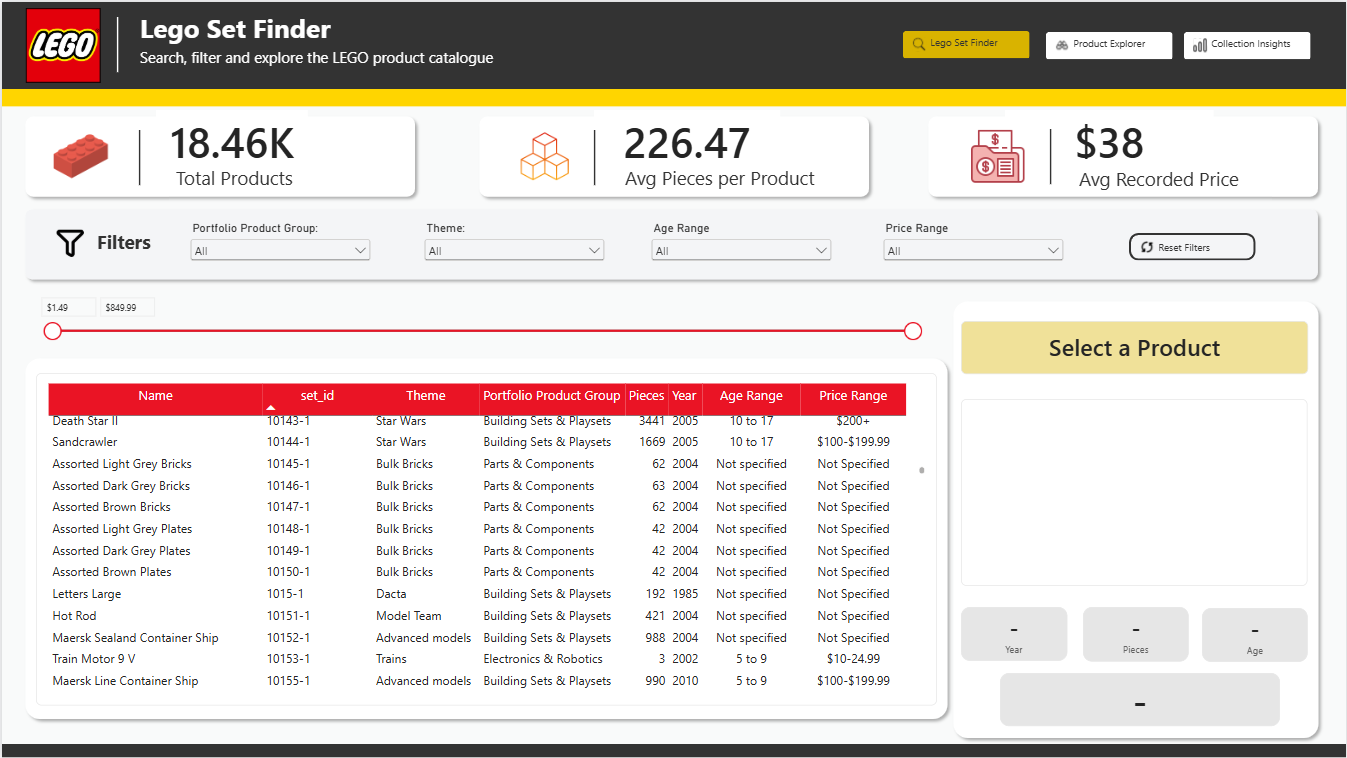

Layout of this report page (visuals, bound fields, positions):
{"tool":"powerbi","page":{"name":"Lego Set Finder","canvas":[1920,1080],"ordinal":0},"visuals":[{"type":"shape","box":[0,0,1920,135.7],"z":0},{"type":"image","box":[0,8.8,175.1,106.5],"z":1000},{"type":"shape","box":[24.8,154.7,574.8,132.8],"z":2000},{"type":"shape","box":[24.8,287.4,1864.6,118.2],"z":3000},{"type":"shape","box":[0,1060.7,1920,19],"z":4000},{"type":"card","fields":{"Values":["Measure Table.Total Sets"]},"box":[220.3,154.7,217.4,86.1],"z":5000},{"type":"slicer","fields":{"Values":["lego_sets.Portfolio Product Group"]},"box":[264.1,312.2,267,68.6],"z":6000},{"type":"actionButton","box":[1287.5,42,180.9,39.4],"z":7000},{"type":"textbox","box":[197,11.7,564.6,71.5],"z":8000},{"type":"textbox","box":[197,64.2,564.6,71.5],"z":9000},{"type":"shape","box":[124,21.9,81.7,78.8],"z":10000},{"type":"shape","box":[0,124,1920,24.8],"z":11000},{"type":"shape","box":[672.6,154.7,574.8,132.8],"z":12000},{"type":"shape","box":[1314.5,154.7,574.8,132.8],"z":13000},{"type":"shape","box":[156.1,182.4,81.7,78.8],"z":14000},{"type":"textbox","box":[248,233.4,300.5,55.4],"z":15000},{"type":"card","fields":{"Values":["Measure Table.Avg Pieces per Product"]},"box":[846.2,154.7,265.5,86.1],"z":16000},{"type":"shape","box":[805.3,182.4,81.7,78.8],"z":17000},{"type":"textbox","box":[890,233.4,300.5,55.4],"z":18000},{"type":"card","fields":{"Values":["Measure Table.Avg Recorded Price (USD)"]},"box":[1432.7,154.7,297.6,86.1],"z":19000},{"type":"shape","box":[1457.7,180.9,81.7,78.8],"z":20000},{"type":"textbox","box":[1538.9,234.1,300.5,55.4],"z":21000},{"type":"slicer","fields":{"Values":["lego_sets.theme"]},"box":[598.2,312.2,267,68.6],"z":22000},{"type":"slicer","fields":{"Values":["lego_sets.Age Range"]},"box":[923.1,312.6,267,68.6],"z":24000},{"type":"slicer","fields":{"Values":["lego_sets.Price Range"]},"box":[1254.2,312.6,267,68.6],"z":25000},{"type":"actionButton","box":[1491,42.6,180.9,39.4],"z":26000},{"type":"actionButton","box":[1689.2,42.6,180.9,39.4],"z":27000},{"type":"image","box":[71.8,315.2,51.9,57.2],"z":28000},{"type":"textbox","box":[135.7,324.5,111.7,45.2],"z":29000},{"type":"image","box":[70.5,180.9,85.1,78.5],"z":30000},{"type":"image","box":[732.9,180.9,85.1,78.5],"z":31000},{"type":"image","box":[1380.6,180.9,85.1,78.5],"z":32000},{"type":"shape","box":[1349.5,418.7,539.8,641.9],"z":33000},{"type":"card","fields":{"Values":["Measure Table.Selected Product"]},"box":[1370,455.2,496,75.9],"z":34000},{"type":"simpleImageEBC4593F96F1425FB3D84C5BF02B5075","fields":{"imageURL":["lego_sets.imageURL"]},"box":[1370,567.5,494.6,267],"z":35000},{"type":"cardVisual","fields":{"Data":["Measure Table.Selected Price"]},"box":[1425.8,959,400.3,75.8],"z":36000},{"type":"cardVisual","fields":{"Data":["Measure Table.Selected Year"]},"box":[1370,863.7,151.7,77.3],"z":37000},{"type":"cardVisual","fields":{"Data":["Measure Table.Selected Pieces"]},"box":[1543.6,863.7,151,77.5],"z":38000},{"type":"cardVisual","fields":{"Data":["Measure Table.Selected Ages"]},"box":[1714.3,865.2,151,77.1],"z":39000},{"type":"slicer","fields":{"Values":["lego_sets.price"]},"box":[47.9,417.6,1268.9,74.5],"z":40000},{"type":"shape","box":[24.8,500.4,1335.4,533.3],"z":41000},{"type":"tableEx","fields":{"Values":["lego_sets.name","lego_sets.set_id","lego_sets.theme","lego_sets.Portfolio Product Group","lego_sets.pieces","lego_sets.year","lego_sets.Age Range","lego_sets.Price Range"]},"box":[48.1,529.6,1287.5,474.8],"z":42000},{"type":"actionButton","box":[1609.4,329.9,180.9,39.4],"z":42001}]}

Visuals, with their boxes in screenshot pixels (x1, y1, x2, y2), scaled from the page's 1920x1080 canvas onto the 1347x758 screenshot:
shape: BBox(0, 0, 1346, 95)
image: BBox(0, 6, 123, 81)
shape: BBox(17, 109, 421, 202)
shape: BBox(17, 202, 1326, 285)
shape: BBox(0, 744, 1346, 757)
card - Measure Table.Total Sets: BBox(155, 109, 307, 169)
slicer - lego_sets.Portfolio Product Group: BBox(185, 219, 373, 267)
actionButton: BBox(903, 29, 1030, 57)
textbox: BBox(138, 8, 534, 58)
textbox: BBox(138, 45, 534, 95)
shape: BBox(87, 15, 144, 71)
shape: BBox(0, 87, 1346, 104)
shape: BBox(472, 109, 875, 202)
shape: BBox(922, 109, 1325, 202)
shape: BBox(110, 128, 167, 183)
textbox: BBox(174, 164, 385, 203)
card - Measure Table.Avg Pieces per Product: BBox(594, 109, 780, 169)
shape: BBox(565, 128, 622, 183)
textbox: BBox(624, 164, 835, 203)
card - Measure Table.Avg Recorded Price (USD): BBox(1005, 109, 1214, 169)
shape: BBox(1023, 127, 1080, 182)
textbox: BBox(1080, 164, 1290, 203)
slicer - lego_sets.theme: BBox(420, 219, 607, 267)
slicer - lego_sets.Age Range: BBox(648, 219, 835, 268)
slicer - lego_sets.Price Range: BBox(880, 219, 1067, 268)
actionButton: BBox(1046, 30, 1173, 58)
actionButton: BBox(1185, 30, 1312, 58)
image: BBox(50, 221, 87, 261)
textbox: BBox(95, 228, 174, 259)
image: BBox(49, 127, 109, 182)
image: BBox(514, 127, 574, 182)
image: BBox(969, 127, 1028, 182)
shape: BBox(947, 294, 1325, 744)
card - Measure Table.Selected Product: BBox(961, 319, 1309, 373)
simpleImageEBC4593F96F1425FB3D84C5BF02B5075 - lego_sets.imageURL: BBox(961, 398, 1308, 586)
cardVisual - Measure Table.Selected Price: BBox(1000, 673, 1281, 726)
cardVisual - Measure Table.Selected Year: BBox(961, 606, 1068, 660)
cardVisual - Measure Table.Selected Pieces: BBox(1083, 606, 1189, 661)
cardVisual - Measure Table.Selected Ages: BBox(1203, 607, 1309, 661)
slicer - lego_sets.price: BBox(34, 293, 924, 345)
shape: BBox(17, 351, 954, 726)
tableEx - lego_sets.name x lego_sets.set_id: BBox(34, 372, 937, 705)
actionButton: BBox(1129, 232, 1256, 259)
